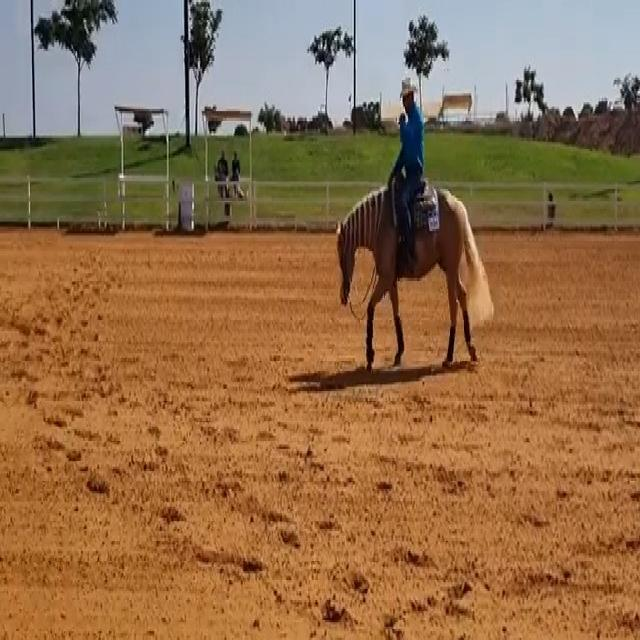horse: (333, 175, 494, 374)
